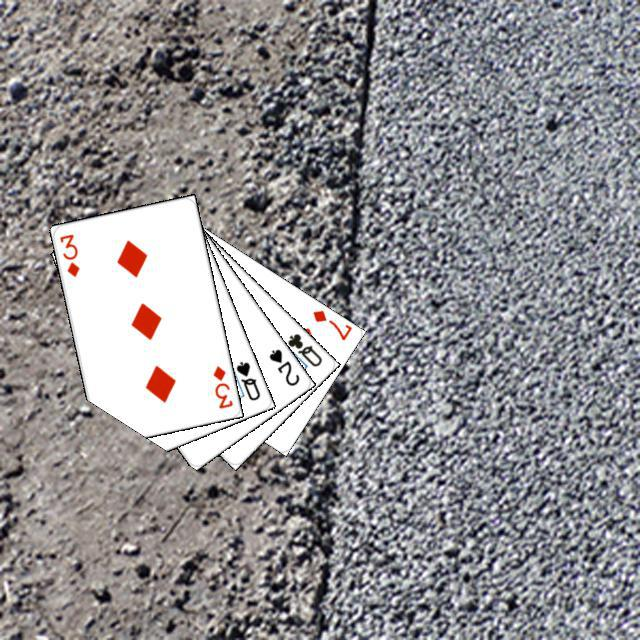2s: (264, 344, 301, 388)
3d: (208, 361, 234, 410), (55, 229, 81, 278)
7d: (307, 305, 353, 342)
Qc: (275, 328, 324, 371)
Qs: (231, 356, 262, 402)
